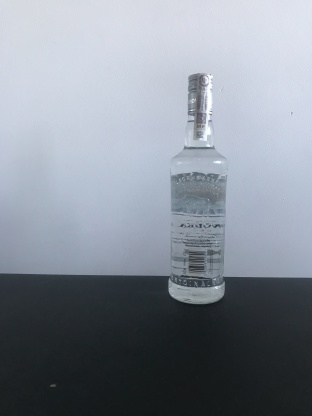nakretka: (185, 69, 215, 117)
